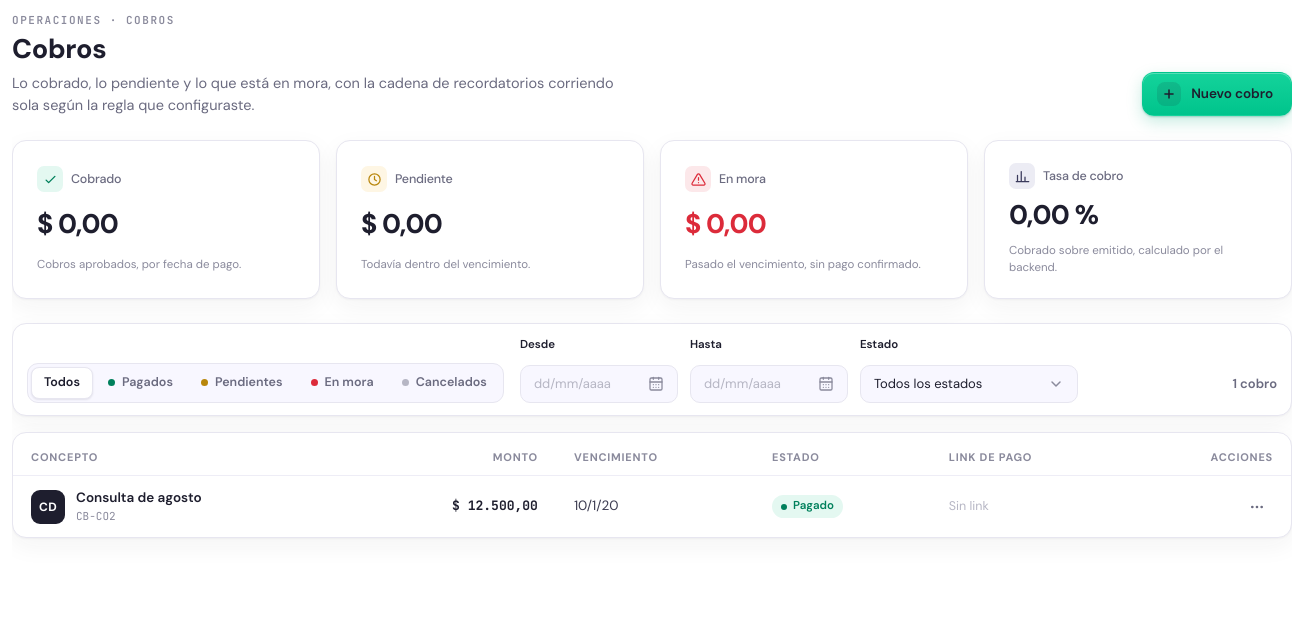
Test: el listado de cobros — menú ⋯ › en un cobro sin link sólo ofrece ver el detalle
This screenshot has width=1292, height=619.
What coordinates should you click on to do the following:
click the button named "Más acciones para Consulta de agosto"
I would click on:
 (1257, 506)
Its box is x1=1241 y1=490 x2=1273 y2=522.
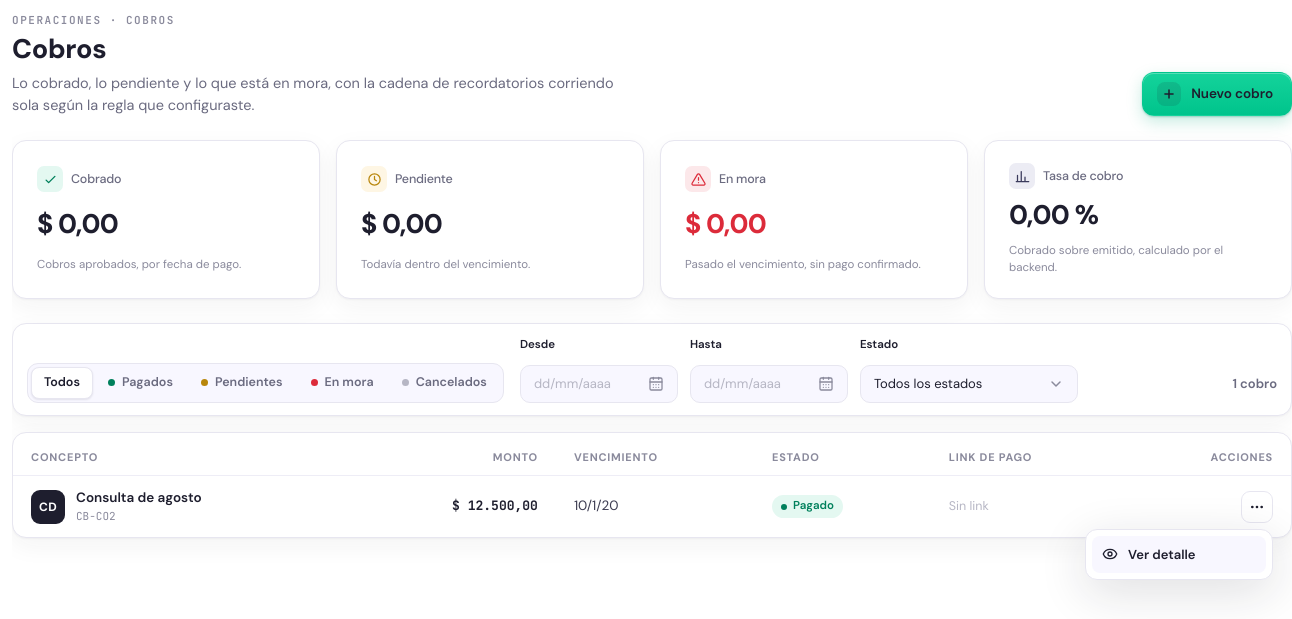
Expected: the menu items read "Ver detalle", in this order, x1=1092 y1=536 x2=1266 y2=573
